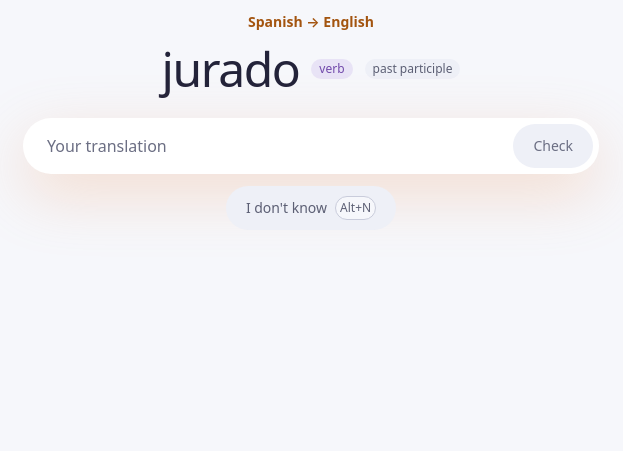
Scenario: a hint on a word › a verb shown in its form and answered in another is asked for in that form
Expected: the text "past participle" is shown, [364,59,460,79]
Type "swear" into the field labelled "Your translation".
click(276, 146); type("swear")  # box [47,124,505,168]
Then press Enter
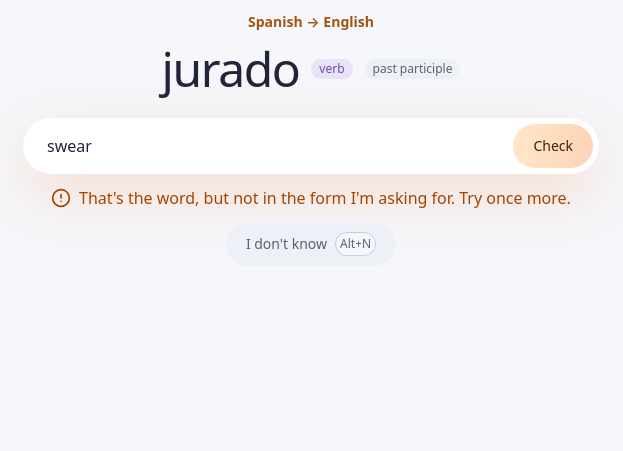
Expected: the text "That's the word, but not in the form I'm asking for. Try once more." is shown, [51,186,571,210]
Replace the text in the field named "Your translation" with "sworn" at (276, 146), box [47,124,505,168]
Then press Enter
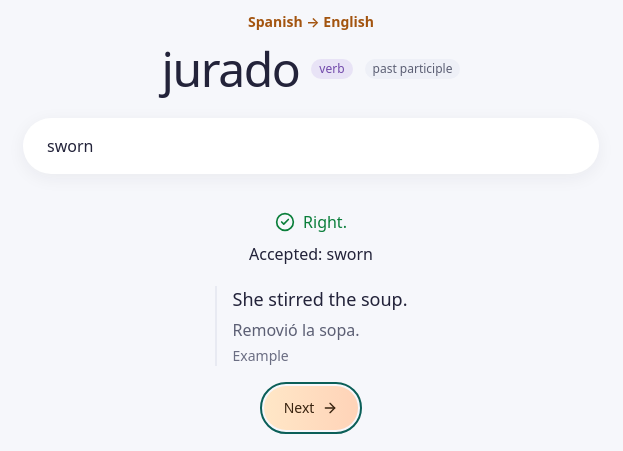
Expected: the text "Right." is shown, [275,210,347,234]
